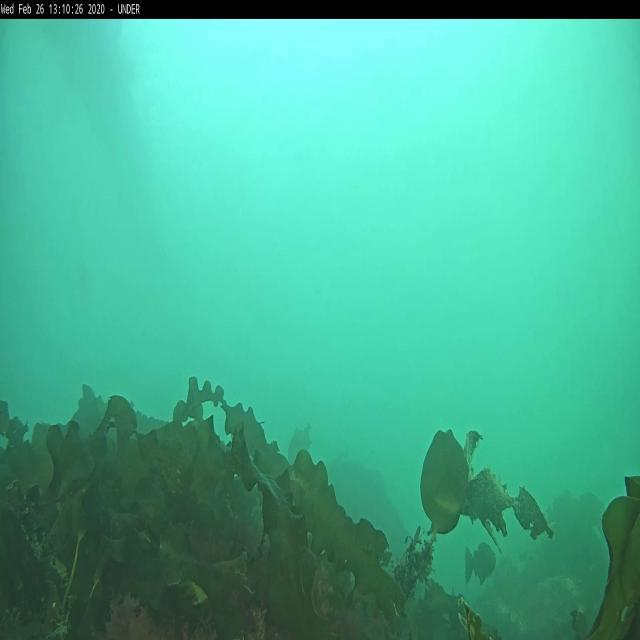fish: (464, 540, 496, 588)
